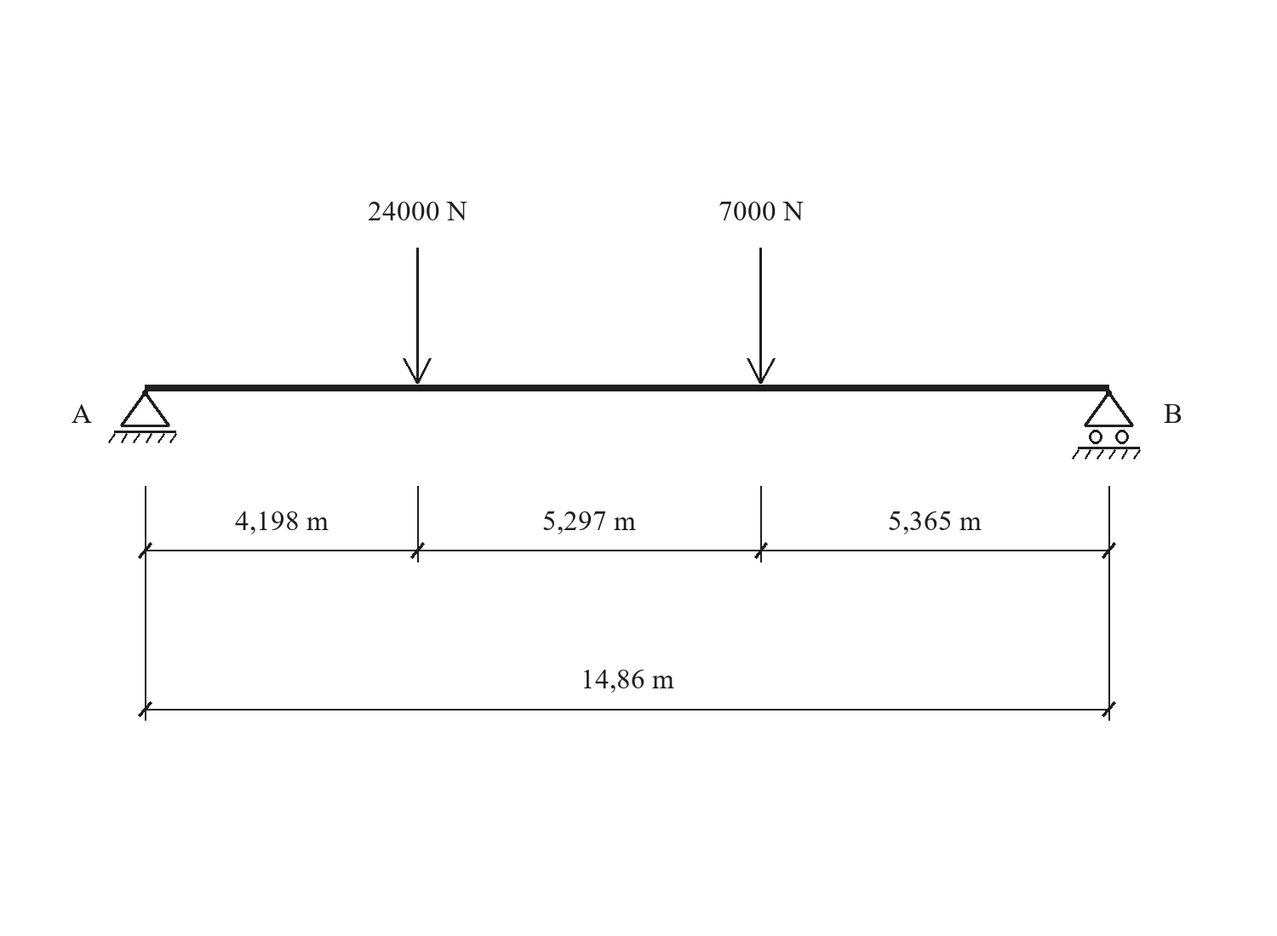pin_support: (108, 390, 177, 443)
point_load: (403, 248, 432, 384), (747, 248, 776, 384)
roller_support: (1072, 390, 1141, 459)
